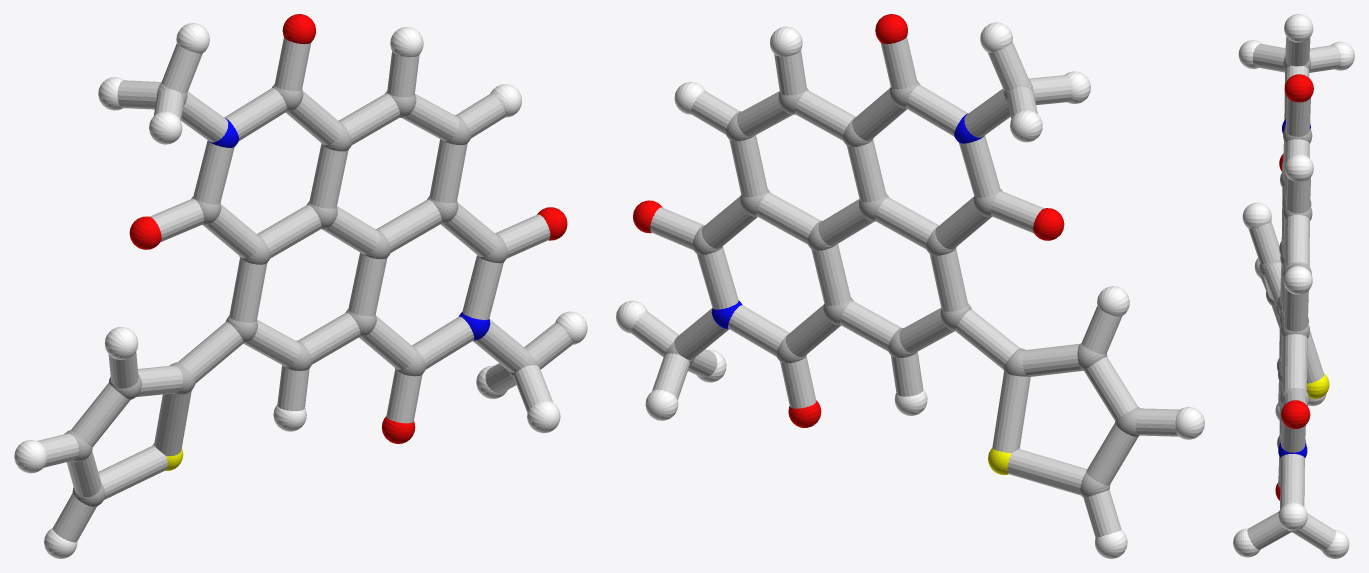
Rendered from Dimethyl_Naphthalene_Dicarboximide_Phi_0_Theta_340_Thiophene.glb.
3 renders of one model, left to right at view 1: azimuth 30°, elevation 25°; view 2: azimuth 150°, elevation 25°; view 3: azimuth 270°, elevation 25°, orthographic. The views are drawn at different scales.
Visible parts, largest first — view 1: grp14119, grp7241, grp1, grp12309, grp11585; view 2: grp14119, grp7241, grp1, grp12309, grp11585; view 3: grp14119, grp7241, grp1, grp12309, grp13757, grp11585.
Part boxes in pixels (x1,y1,x2,y2): grp14119: (37, 37, 572, 542); grp7241: (14, 23, 587, 558); grp1: (64, 83, 538, 507); grp12309: (129, 14, 567, 443); grp11585: (208, 118, 490, 340); grp14119: (631, 37, 1179, 537); grp7241: (616, 22, 1204, 558); grp1: (665, 80, 1140, 497); grp12309: (633, 14, 1064, 427); grp11585: (711, 113, 983, 328); grp14119: (1247, 36, 1341, 550); grp7241: (1233, 14, 1354, 558); grp1: (1259, 56, 1312, 532); grp12309: (1275, 74, 1313, 500); grp13757: (1307, 373, 1329, 398); grp11585: (1278, 119, 1310, 457).
Size of the model in its own units: 12.03 by 10.03 by 2.5.
